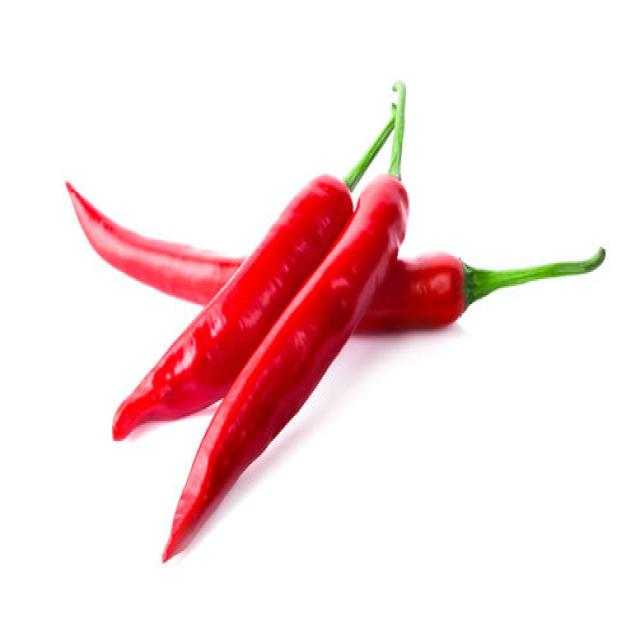Chilli: (109, 89, 402, 443), (159, 167, 410, 562), (72, 176, 614, 334)
